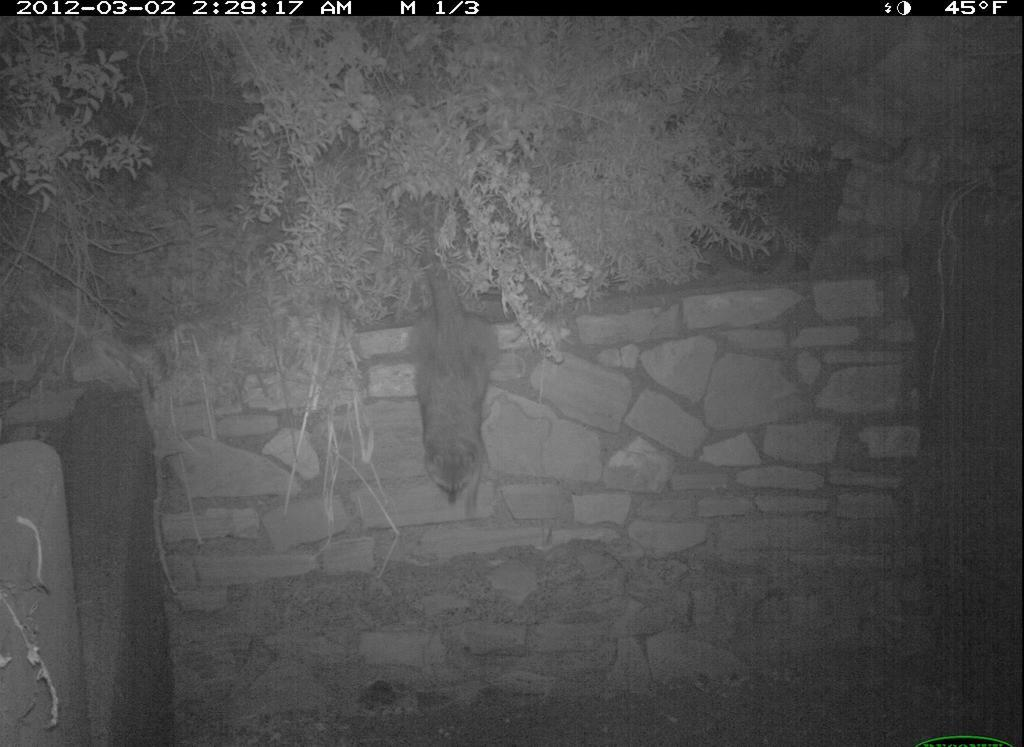raccoon: (397, 235, 506, 528)
